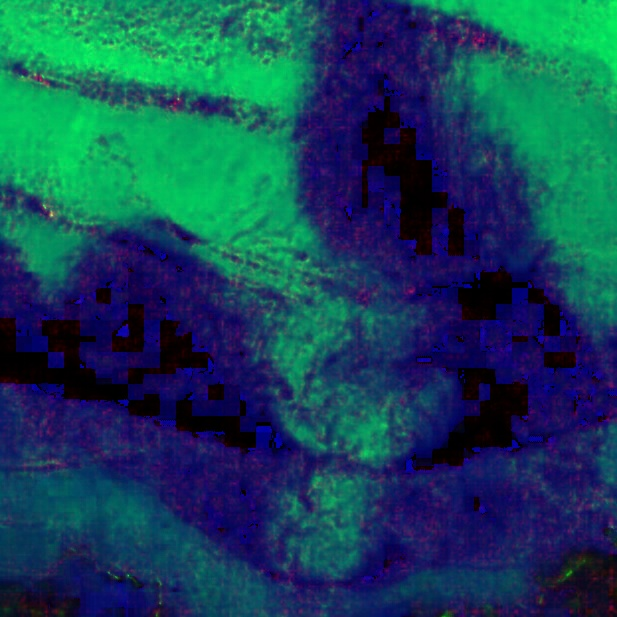rip_current: (145, 113, 450, 568)
